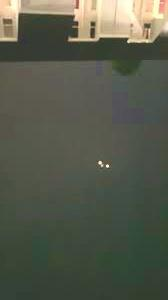Plane: (90, 151, 115, 176)
